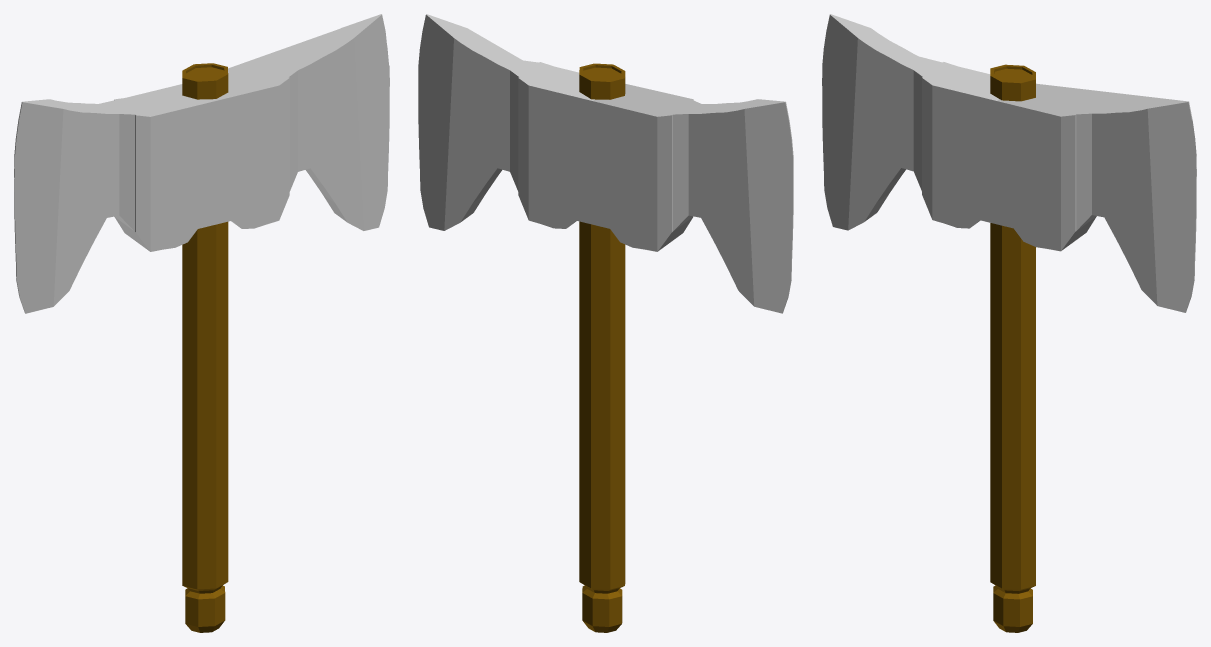
The model's file is Axe.fbx.
3 renders of one model, left to right at view 1: azimuth 30°, elevation 25°; view 2: azimuth 150°, elevation 25°; view 3: azimuth 330°, elevation 25°, orthographic.
Visible parts, largest first — view 1: Cube; view 2: Cube; view 3: Cube.
Part boxes in pixels (x1,y1,x2,y2): Cube: (14, 14, 389, 632); Cube: (418, 14, 793, 632); Cube: (822, 14, 1196, 632).
Size of the model in its own units: 45.56 by 66.2 by 5.44.
